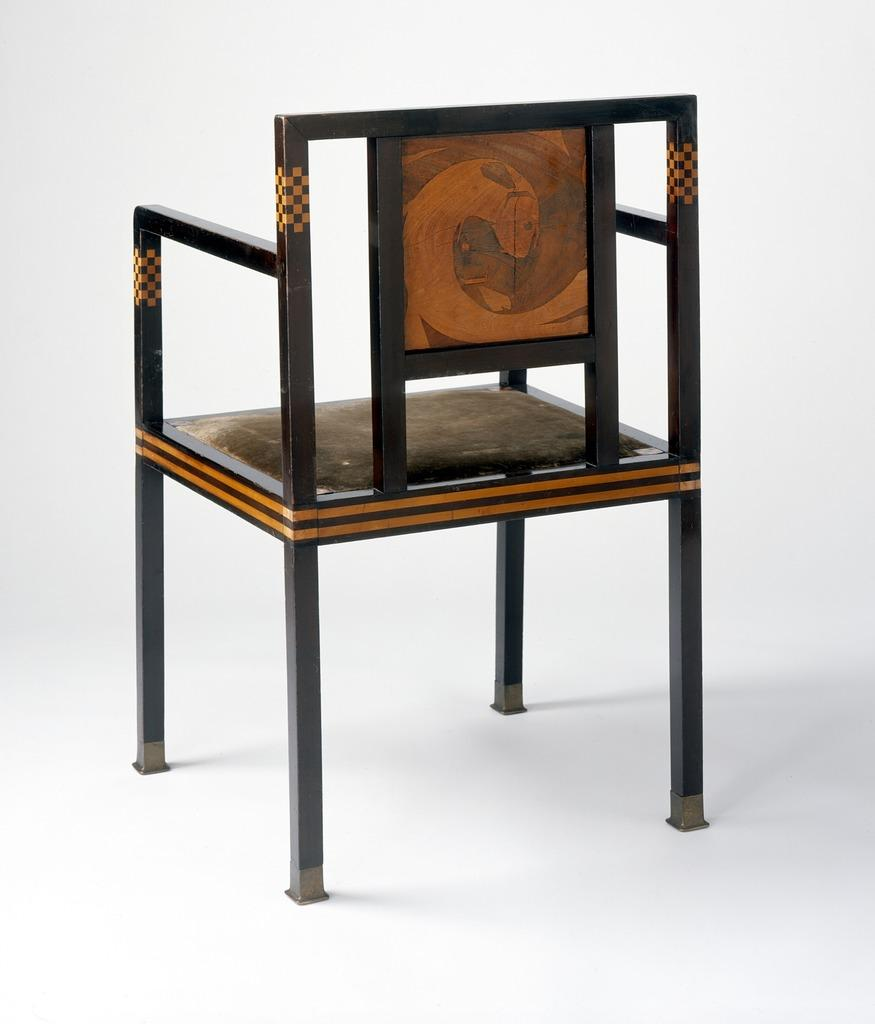Chair: (131, 93, 714, 903)
